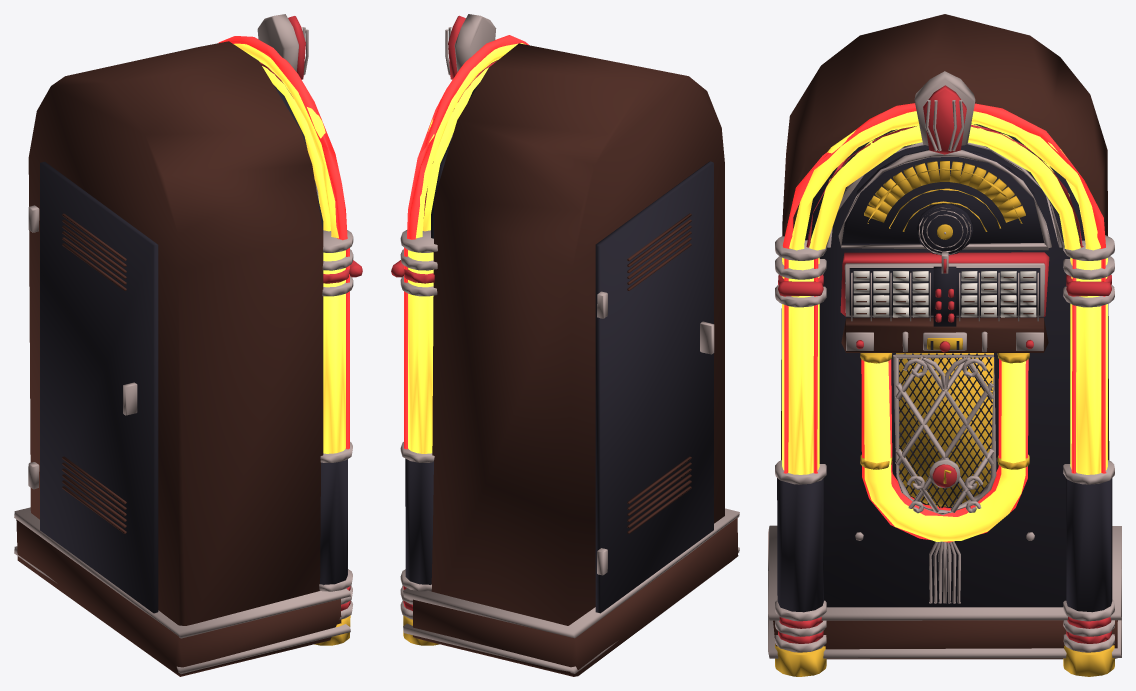
The picture shows the model from 3 angles, left to right: view 1: azimuth 30°, elevation 25°; view 2: azimuth 150°, elevation 25°; view 3: azimuth 270°, elevation 25°; orthographic projection. The views are drawn at different scales.
Visible parts, largest first — view 1: object 2, door_service; view 2: object 2, door_service; view 3: object 2.
Boxes of the visible parts, <box> form: object 2: <box>14,14,362,676</box>; door_service: <box>40,161,158,613</box>; object 2: <box>391,14,739,676</box>; door_service: <box>595,161,714,613</box>; object 2: <box>768,14,1121,676</box>.
Size of the model in its own units: 0.8501 by 2.1 by 1.12.
